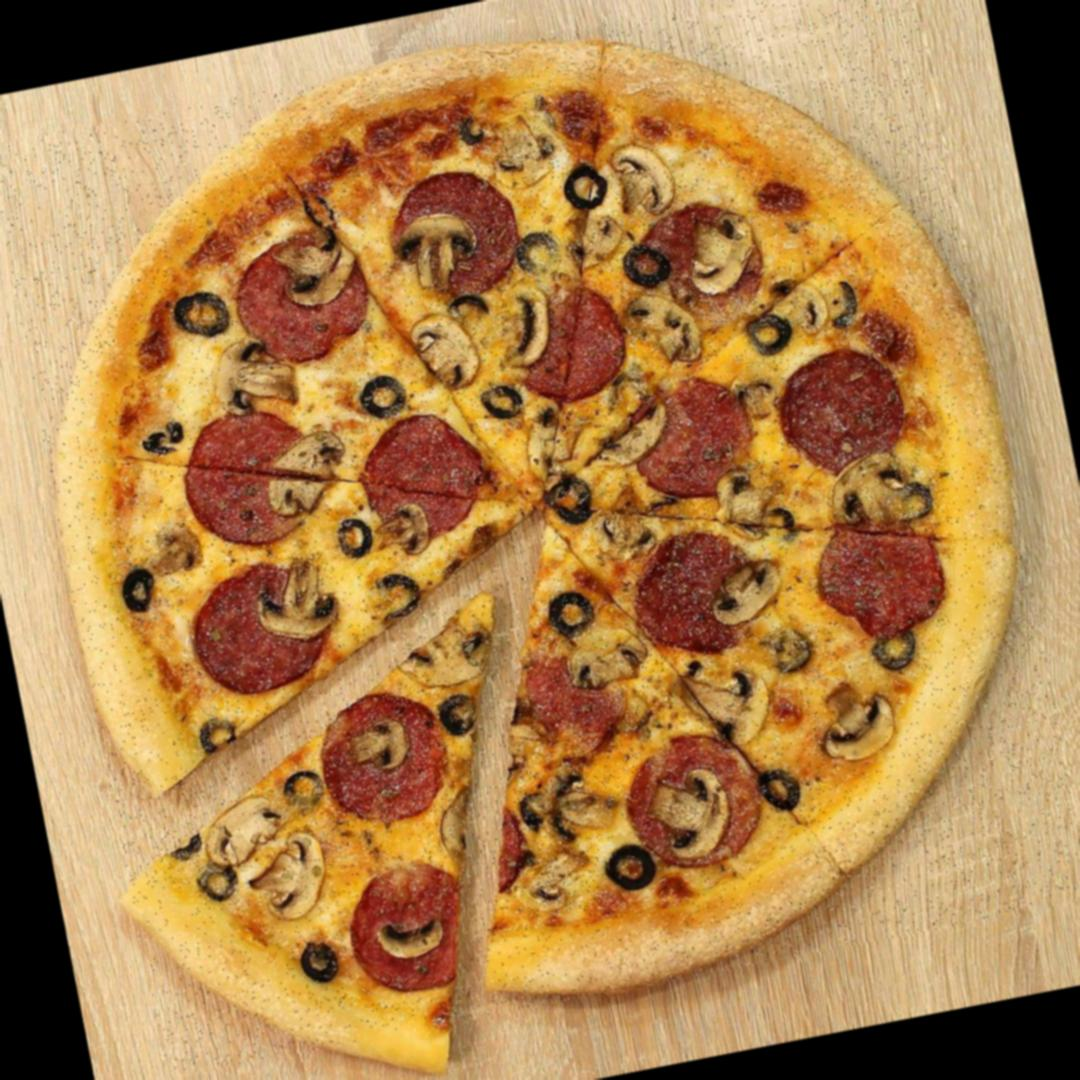Mushroom: (674, 652, 786, 752), (264, 226, 370, 322), (822, 442, 934, 532), (526, 756, 631, 851), (241, 830, 334, 929), (394, 617, 514, 692), (256, 551, 348, 648), (391, 208, 488, 297), (813, 676, 906, 766), (208, 333, 305, 418), (676, 207, 762, 298), (404, 308, 487, 398), (624, 285, 703, 374), (710, 459, 784, 547), (609, 138, 686, 222), (488, 110, 568, 190), (508, 852, 600, 920), (707, 554, 794, 625), (587, 404, 675, 474), (564, 629, 657, 691), (208, 796, 290, 866), (269, 426, 352, 490), (347, 713, 421, 775), (562, 208, 632, 272), (375, 501, 438, 568), (596, 506, 660, 565), (524, 410, 576, 482), (779, 275, 834, 342), (266, 470, 337, 518), (148, 518, 206, 576)
Olives: (766, 614, 820, 682), (604, 836, 660, 894), (170, 290, 230, 343), (546, 472, 600, 530), (371, 570, 426, 625), (620, 238, 676, 292), (546, 584, 598, 638), (744, 310, 799, 360), (758, 762, 807, 816), (561, 161, 612, 212), (512, 230, 564, 280), (298, 938, 346, 990), (475, 380, 527, 428), (360, 373, 410, 422), (873, 632, 924, 680), (278, 769, 328, 814), (441, 290, 497, 329), (296, 186, 340, 233), (118, 566, 159, 616), (194, 714, 239, 758), (198, 862, 242, 905), (143, 418, 187, 458), (334, 518, 375, 560), (452, 290, 493, 325), (166, 832, 204, 864)
Pepperoni: (174, 403, 329, 557), (183, 556, 338, 703), (621, 728, 773, 876), (228, 226, 378, 372), (314, 686, 459, 831), (627, 196, 775, 338), (624, 524, 769, 668), (810, 505, 956, 648), (384, 164, 528, 307), (776, 344, 914, 486), (625, 372, 770, 506), (354, 410, 495, 547), (343, 857, 475, 1003), (505, 277, 634, 408), (516, 643, 642, 768)
Pizza: (0, 0, 1080, 1080)
